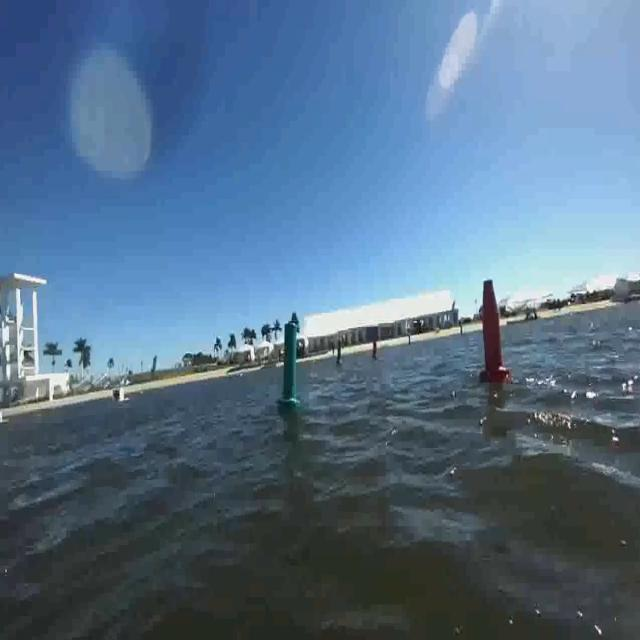green-column-buoy: (278, 322, 303, 412)
red-column-buoy: (478, 272, 512, 382)
